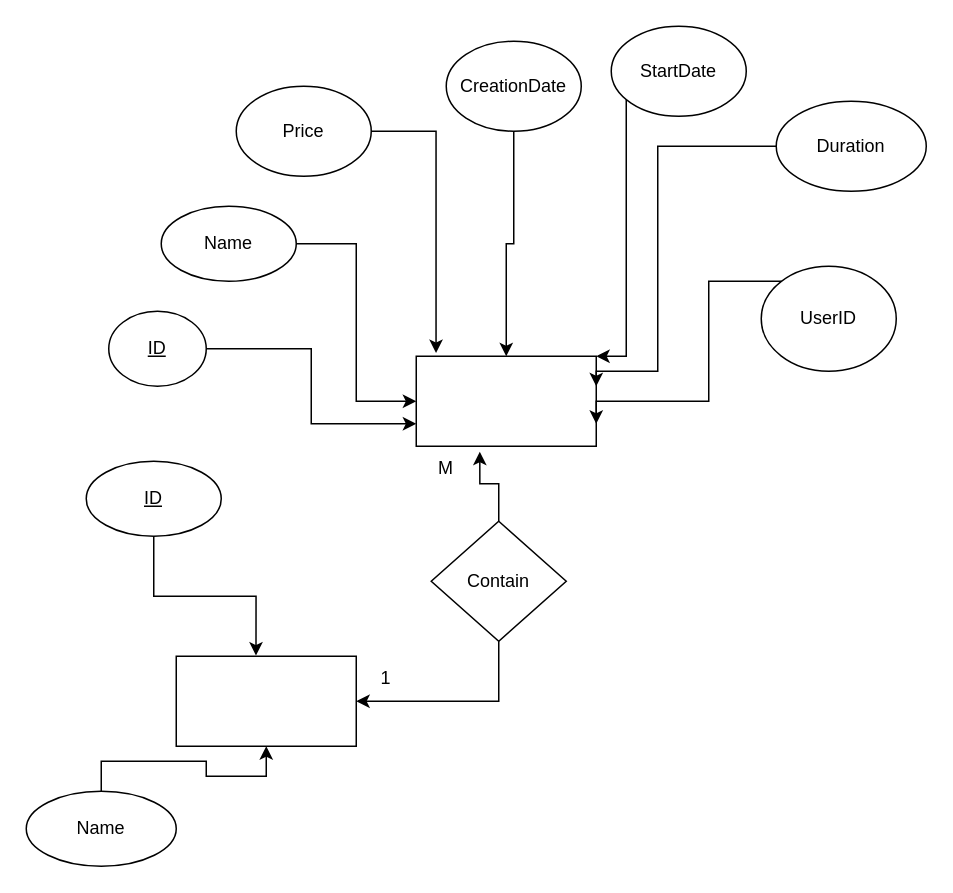
Image size: 953x893. Some labels were removed from this diagram. Each missing label, with the centre of its shape:
"Cateogry" goes at point (265, 700).
"Product" goes at point (505, 400).
